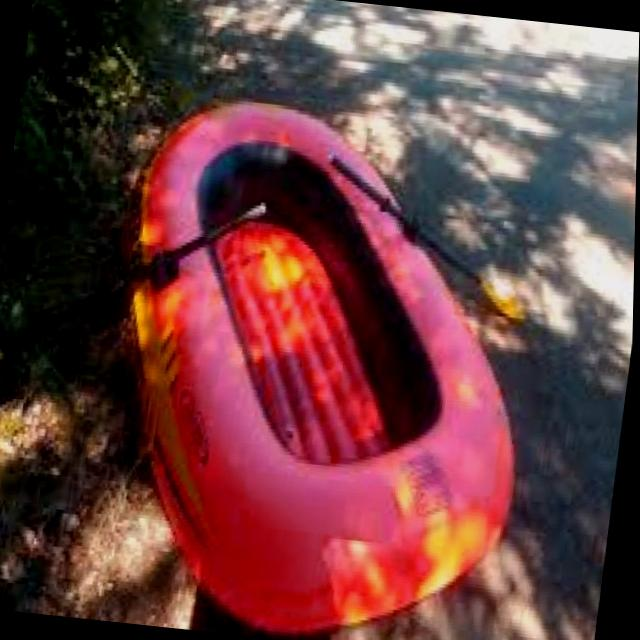ship2: (121, 101, 518, 640)
